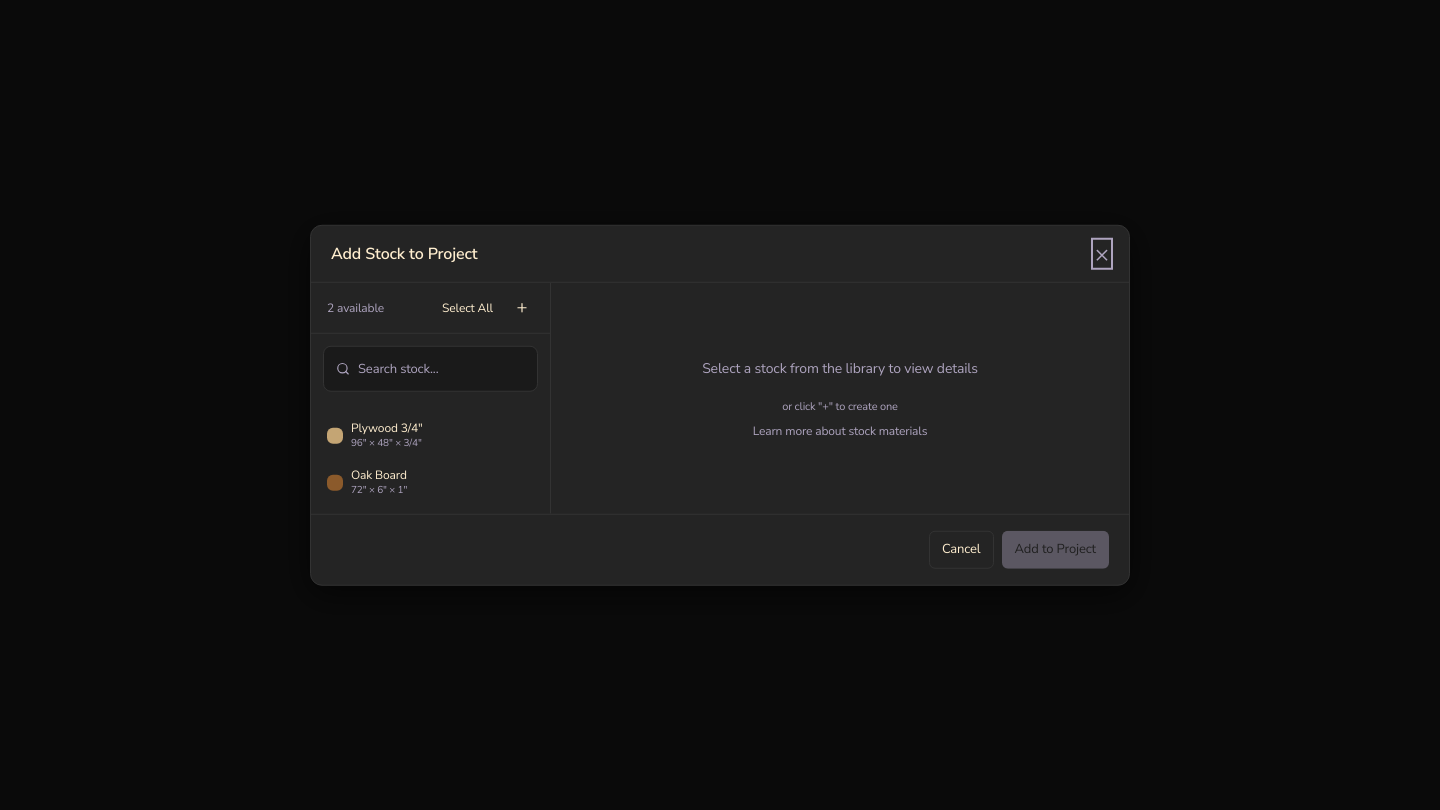
Test case: AddStockModal › create new stock › switches to create mode when clicked
Click the button titled "Create new stock": (522, 308) [510,296,534,320]
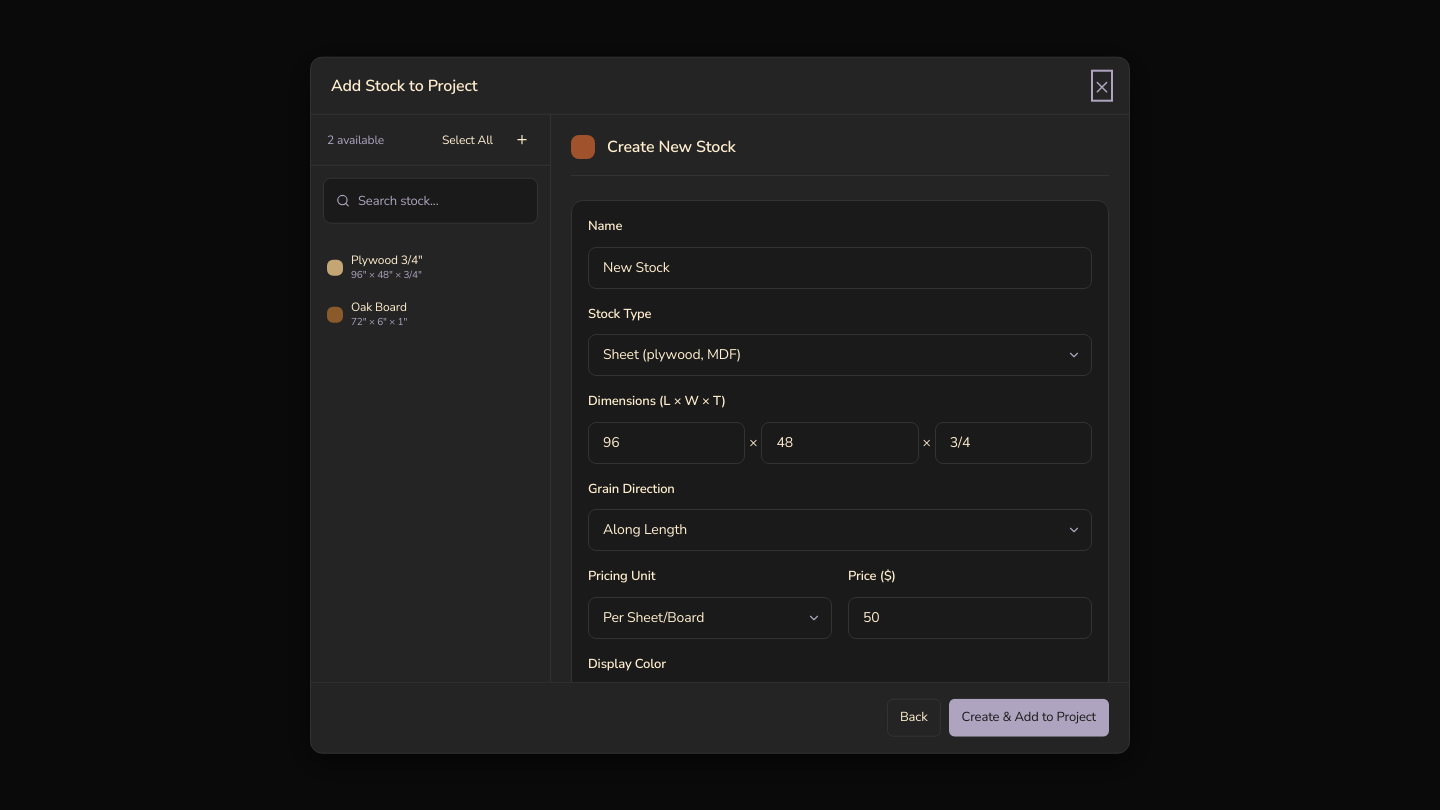
expect the text "Create New Stock" is shown: met, box [607,135,736,159]
